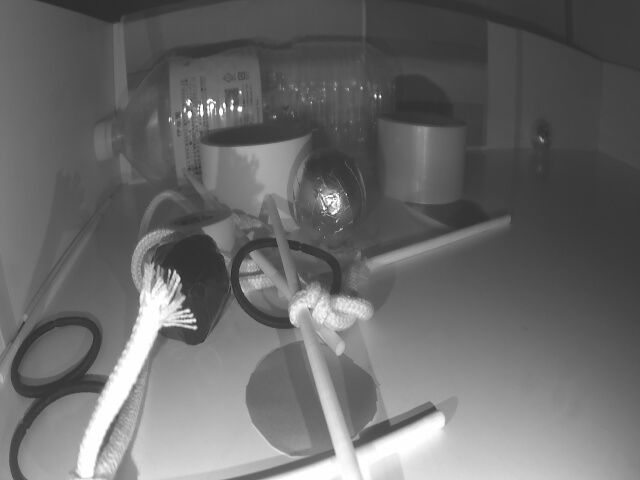Dead: (156, 242, 229, 336)
Live: (295, 147, 362, 238), (533, 124, 549, 149)
